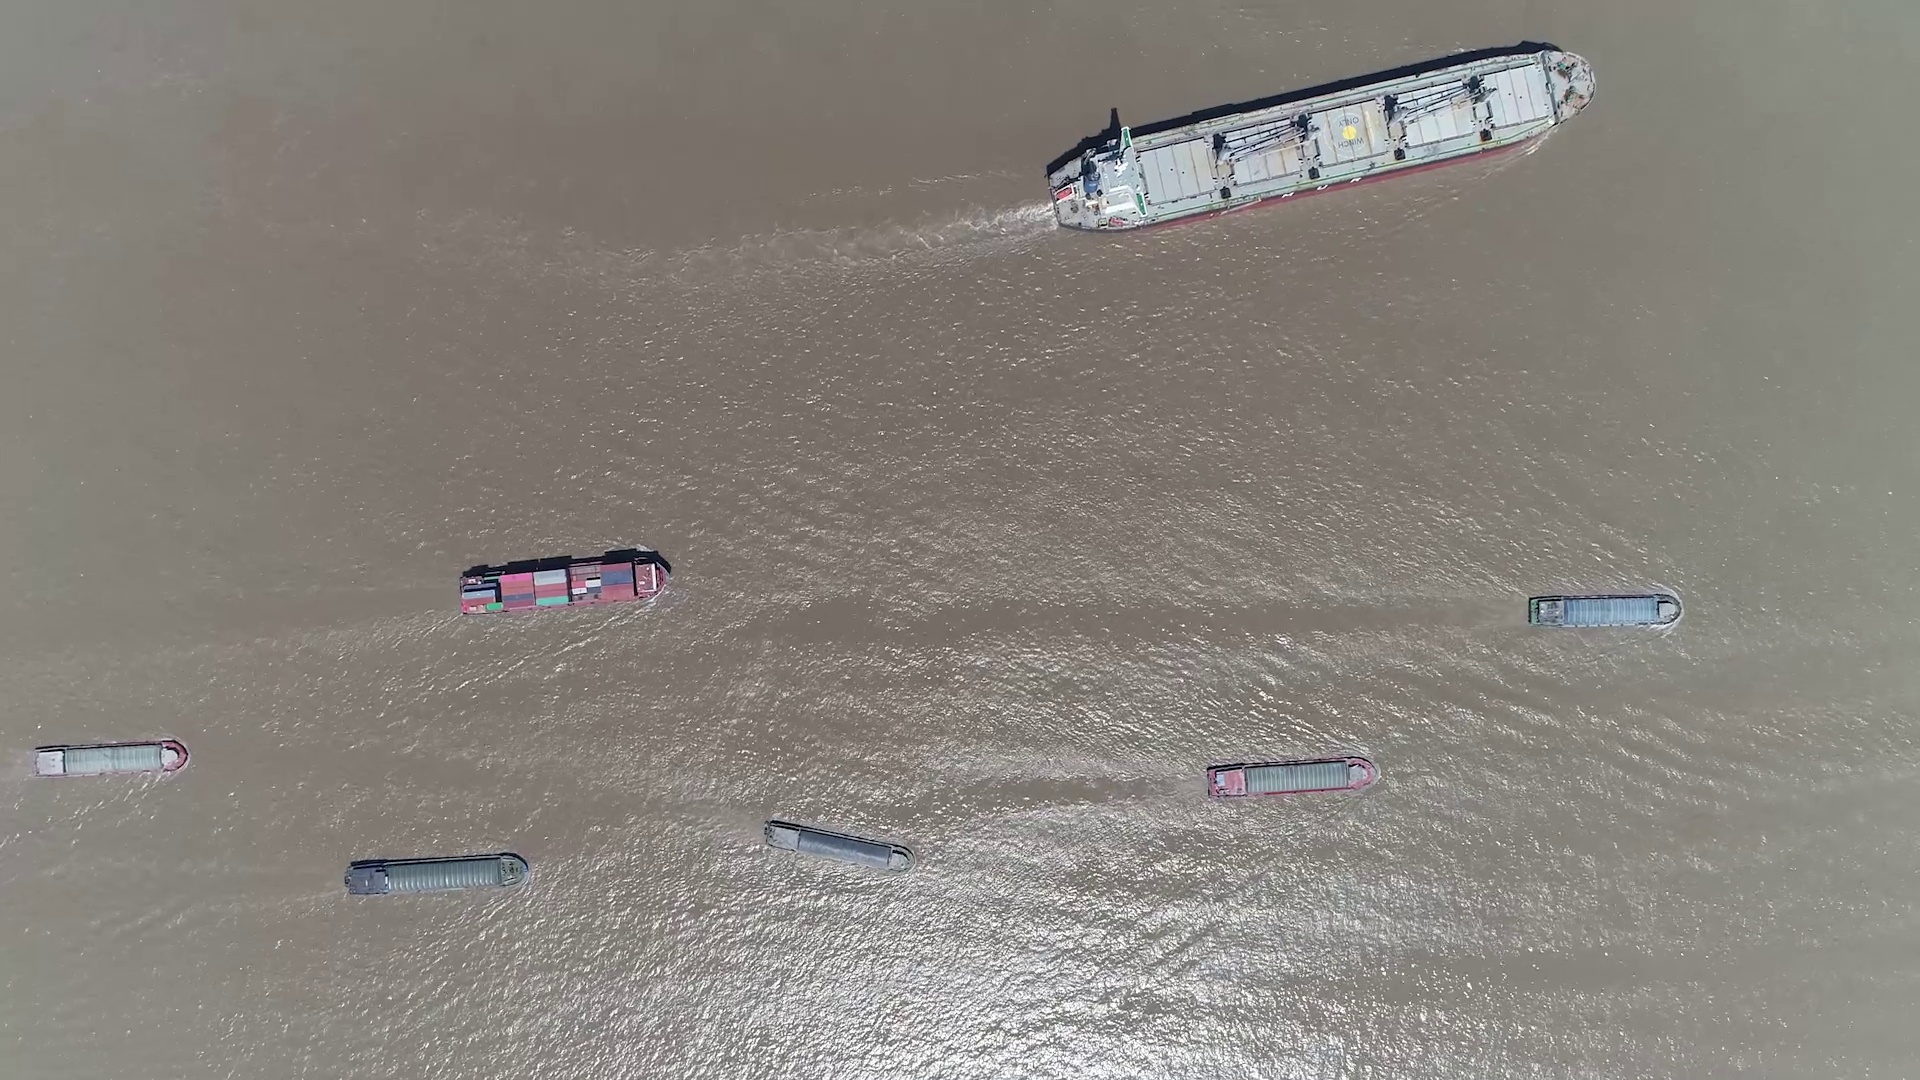ship: (1048, 54, 1594, 231), (458, 555, 669, 616), (344, 852, 527, 894), (764, 819, 911, 870), (1205, 756, 1375, 798), (32, 741, 189, 778), (1528, 593, 1680, 629)
